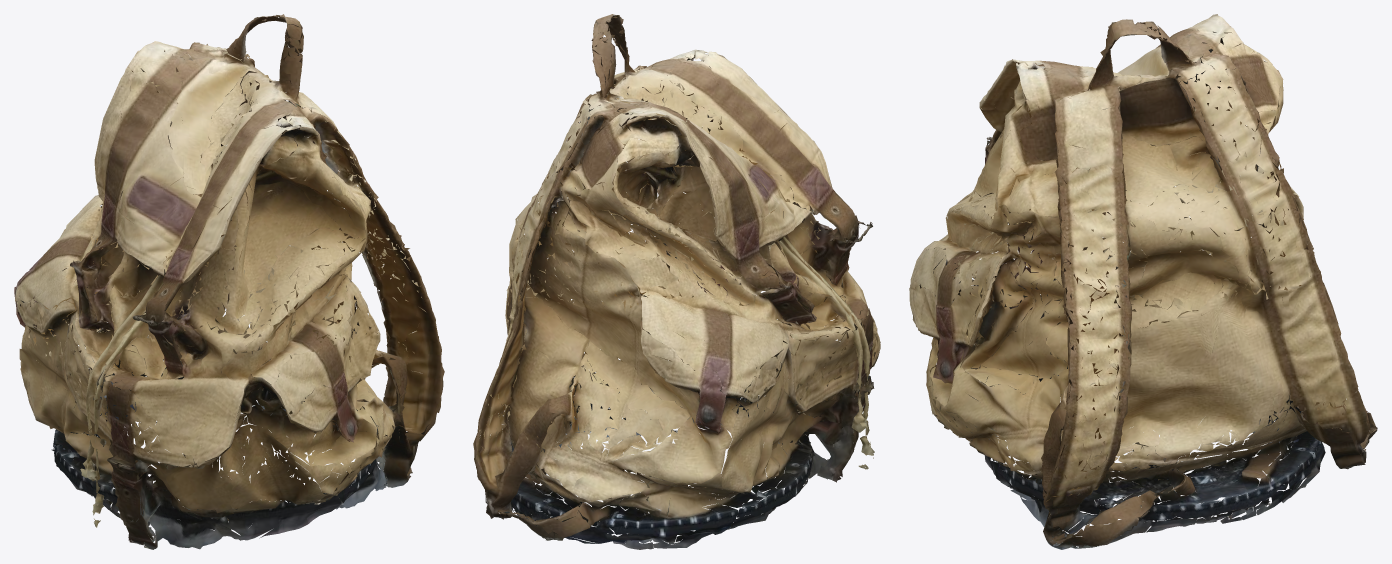
Rendered from backpack_photogrammetry.glb.
3 views of the same model, side by side, from view 1: azimuth 30°, elevation 25°; view 2: azimuth 150°, elevation 25°; view 3: azimuth 270°, elevation 25° (orthographic). The views are drawn at different scales.
Parts seen in each view (by area): view 1: Model_material0_0_5; view 2: Model_material0_0_5; view 3: Model_material0_0_5.
Boxes of the visible parts, x1=… form: Model_material0_0_5: x1=14, y1=14, x2=444, y2=549; Model_material0_0_5: x1=473, y1=14, x2=880, y2=549; Model_material0_0_5: x1=909, y1=14, x2=1377, y2=549.
Size of the model in its own units: 2.65 by 3.46 by 2.87.
Materials: 1 (1 with a texture image).
